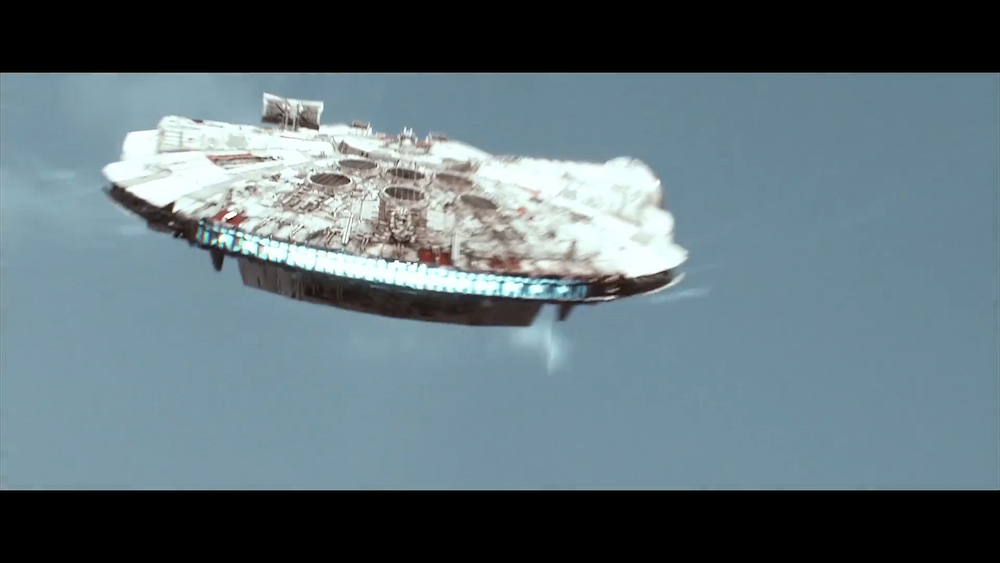Millennium Falcon: (101, 92, 691, 331)
